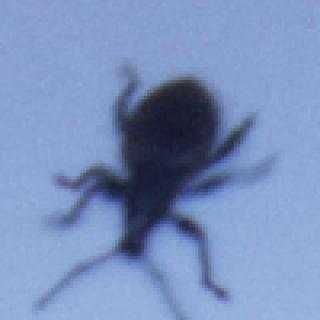bvw: (36, 60, 272, 316)
